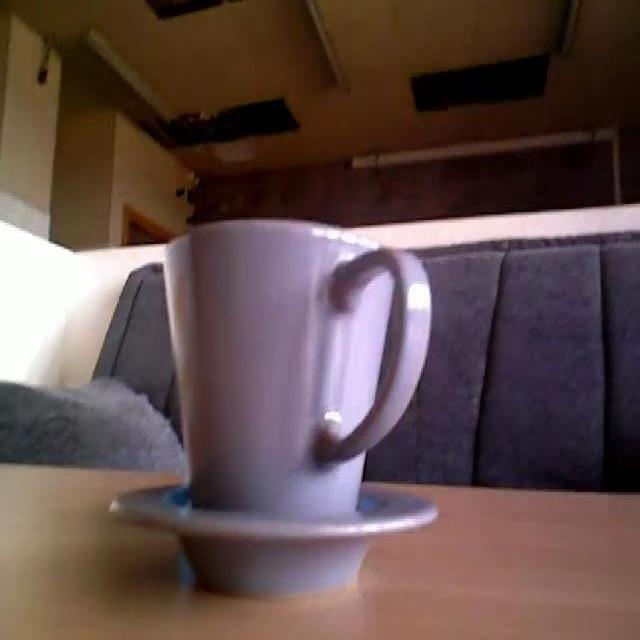cup: (104, 211, 452, 593)
